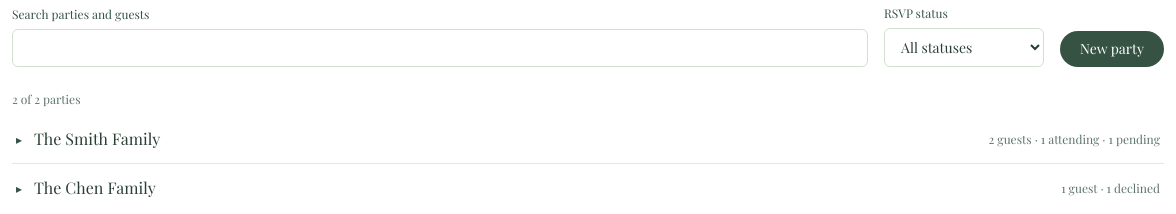
PartyManager › filters by RSVP status
Expected: the text "The Smith Family" is shown, [34, 127, 160, 151]
Select "Declined" in the dropdown labelled "RSVP status" at (964, 48), box [884, 28, 1044, 67]
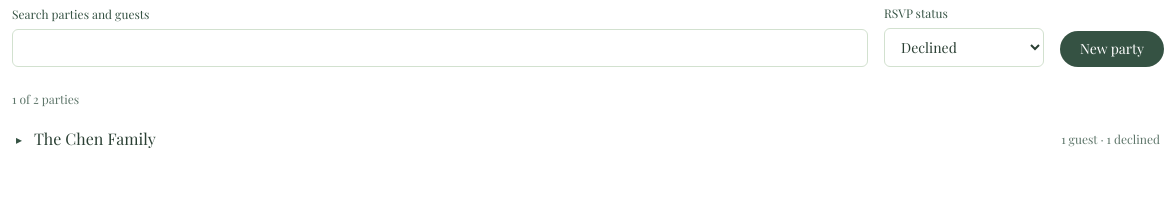
Expected: the text "The Chen Family" is shown, [34, 127, 156, 151]
Now the button "The Smith Family" is gone
